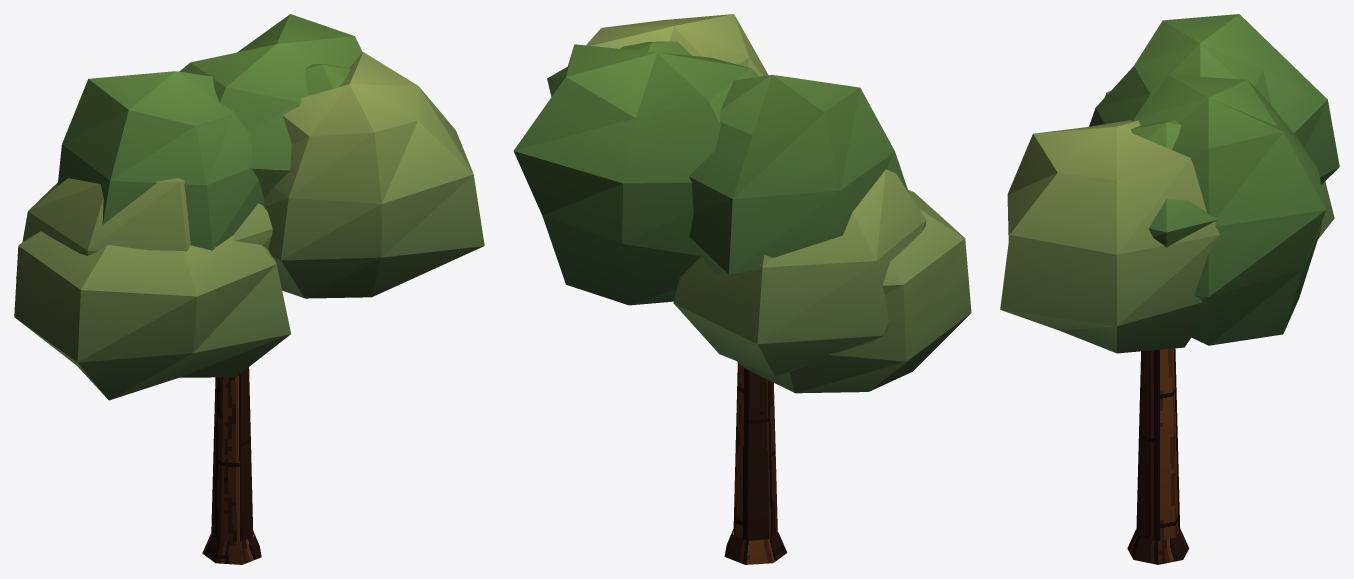
File: oak_1_lowpoly.glb
The picture shows the model from 3 angles, left to right: view 1: azimuth 30°, elevation 25°; view 2: azimuth 150°, elevation 25°; view 3: azimuth 270°, elevation 25°; orthographic projection. The views are drawn at different scales.
Parts seen in each view (by area): view 1: oak_1_lowpoly; view 2: oak_1_lowpoly; view 3: oak_1_lowpoly.
Part boxes in pixels (left/top/right/bottom): oak_1_lowpoly: left=14, top=14, right=484, bottom=564; oak_1_lowpoly: left=513, top=14, right=971, bottom=564; oak_1_lowpoly: left=1000, top=14, right=1339, bottom=564.
Size of the model in its own units: 5.31 by 6.12 by 3.85.
2 materials, 1 textured.
